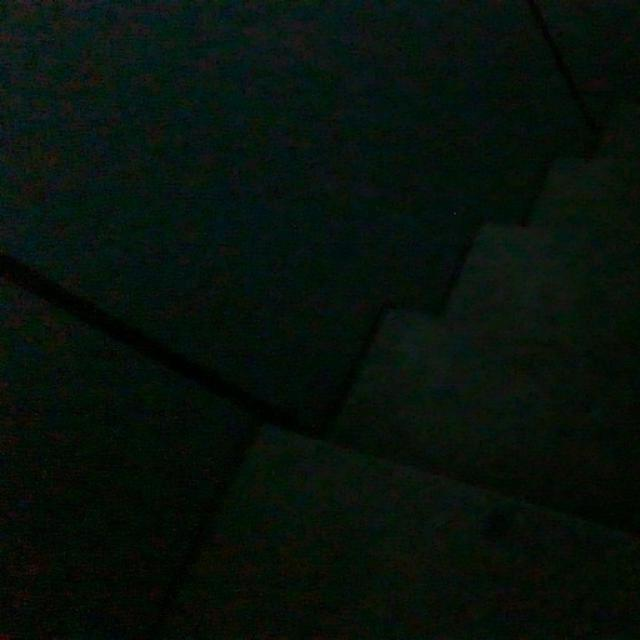stair: (243, 65, 640, 612)
